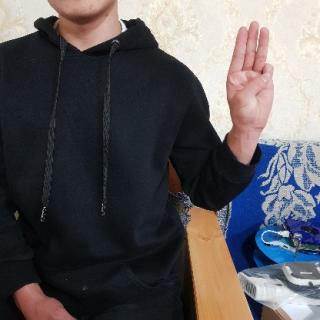THA: (225, 20, 282, 136)
